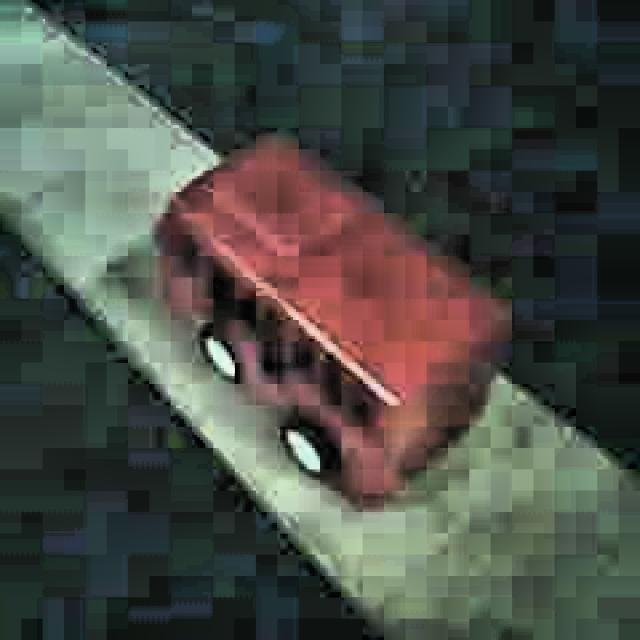bus: (152, 138, 508, 512)
